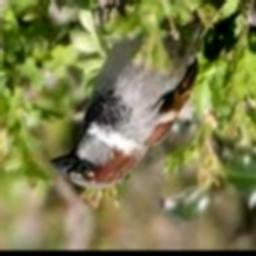Sparrow: (49, 17, 210, 188)
